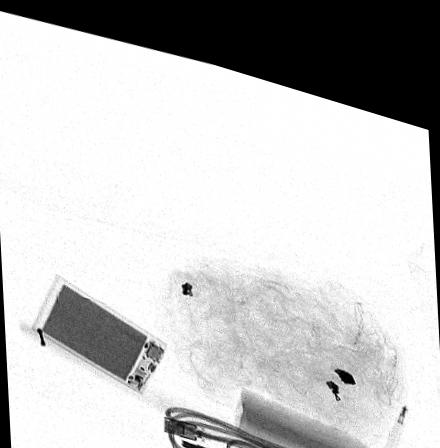Powerbank: (31, 270, 168, 388)
